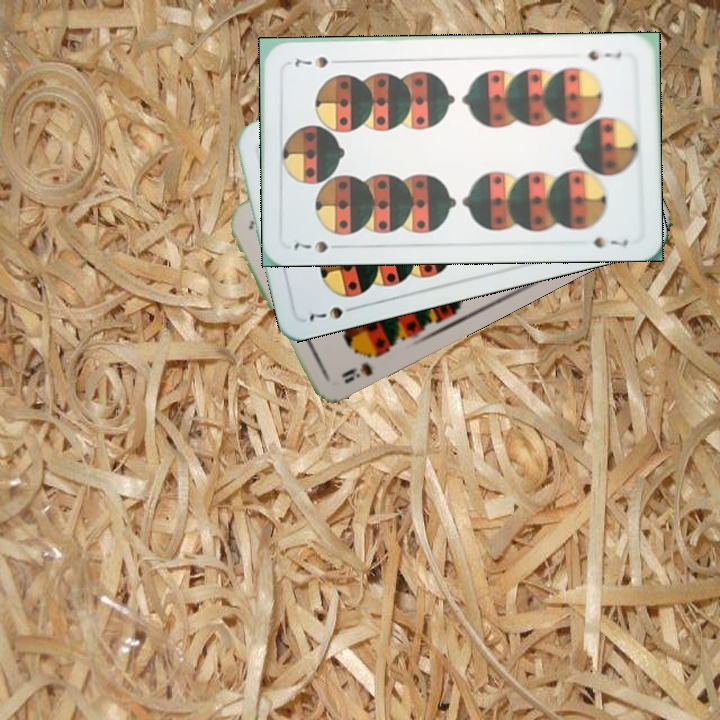S7: (305, 301, 361, 325), (290, 237, 346, 256), (584, 46, 624, 63)
S9: (337, 344, 386, 386)
